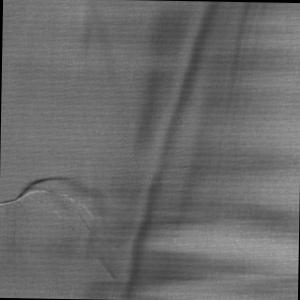Wrinkle: (102, 1, 300, 300)
